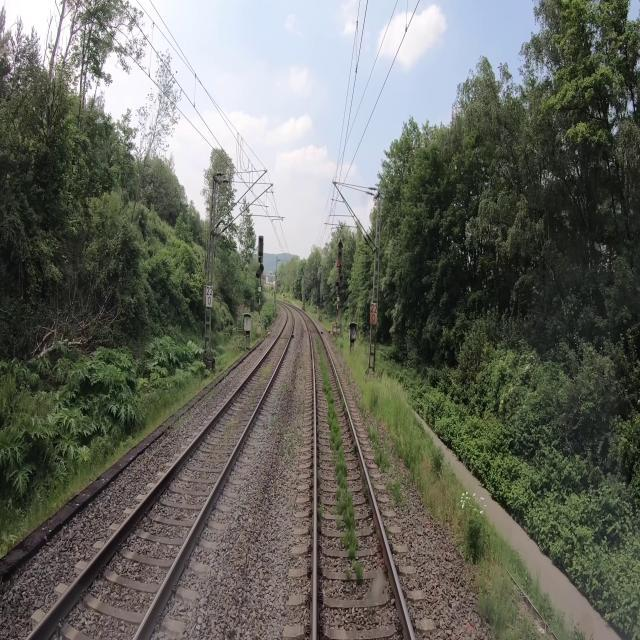Plant: (343, 352, 442, 530), (314, 336, 364, 580), (387, 469, 407, 511), (317, 506, 323, 519), (346, 570, 352, 582)
